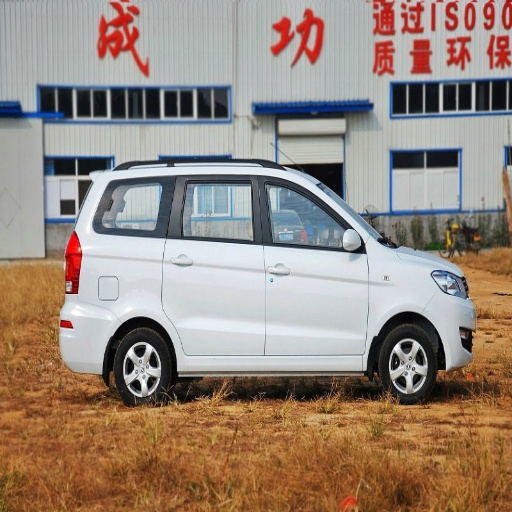back_bumper: (59, 312, 108, 368)
back_right_door: (149, 172, 263, 358)
front_right_door: (262, 174, 370, 356)
